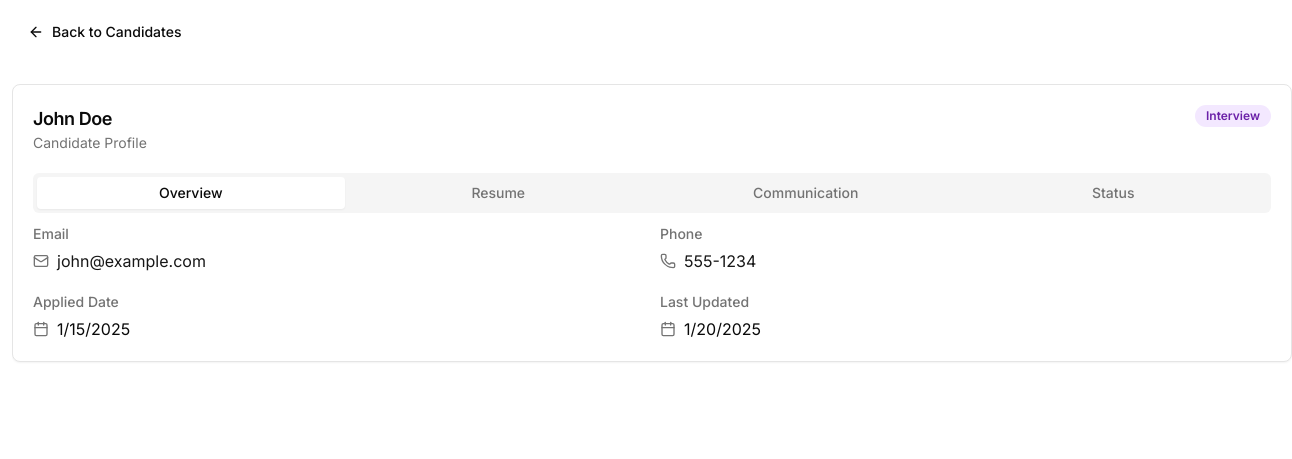
Test: CandidateDetail › displays resume download button in resume tab
Step 1. Click the tab "Resume" → (498, 193), box top-left (344, 177), bottom-right (652, 209)
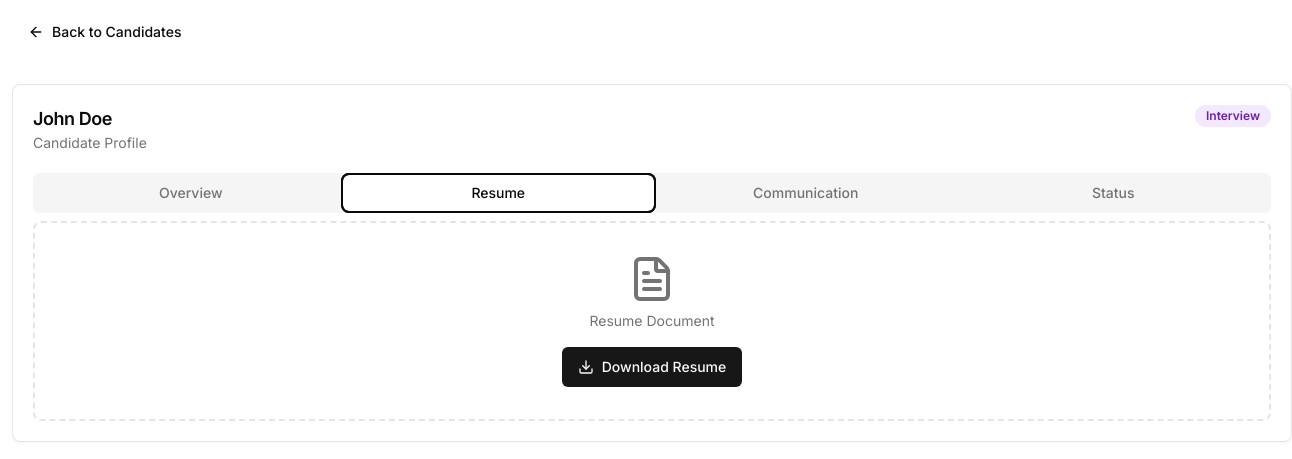
Check: the button "Download Resume" is shown, box top-left (562, 347), bottom-right (742, 387)
